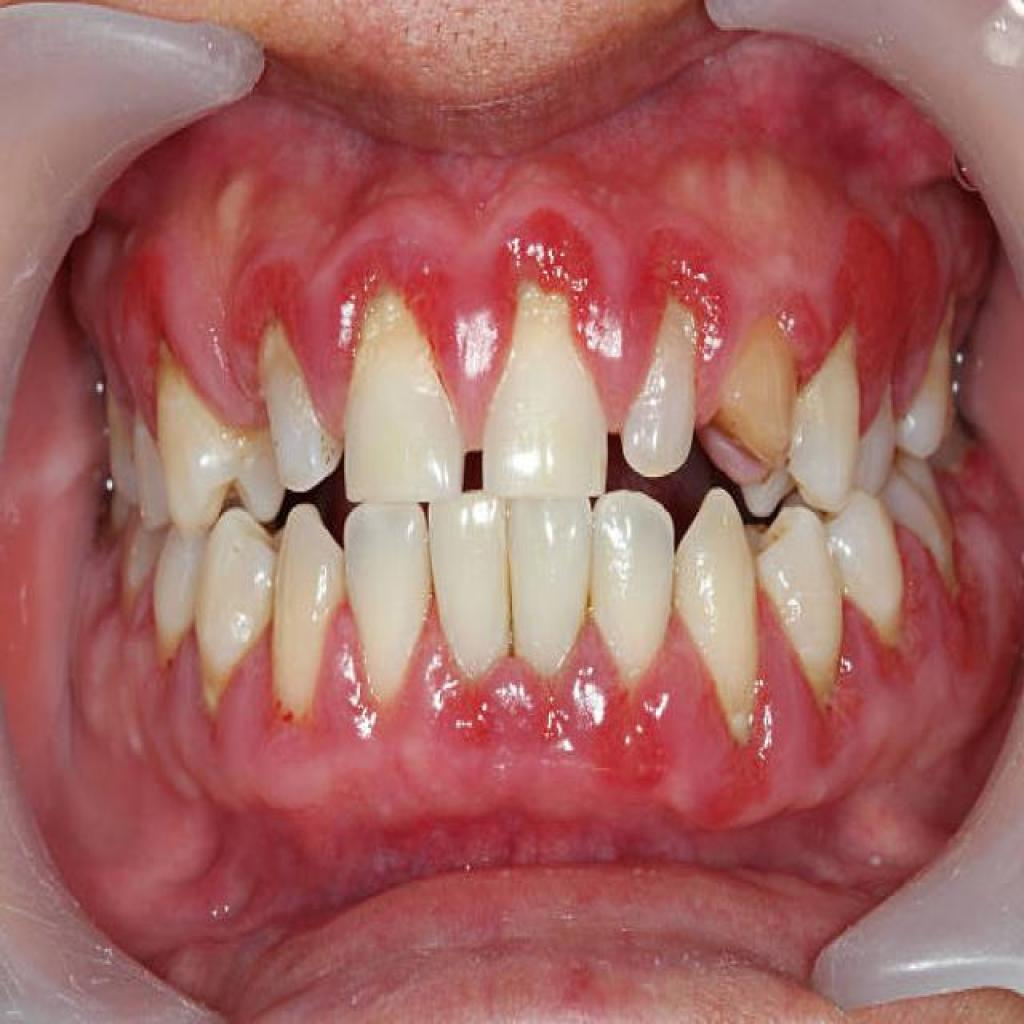Gap: (346, 430, 607, 500)
Healthy: (432, 493, 666, 685), (109, 406, 276, 660)
